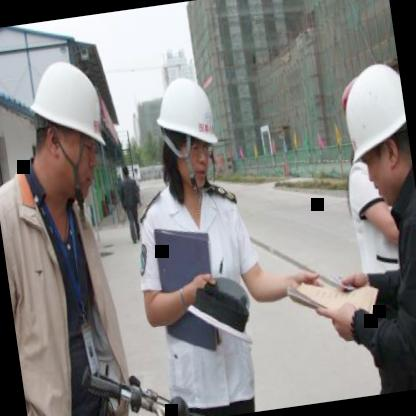helmet: (1, 38, 130, 218), (322, 39, 416, 222), (145, 60, 230, 197)
